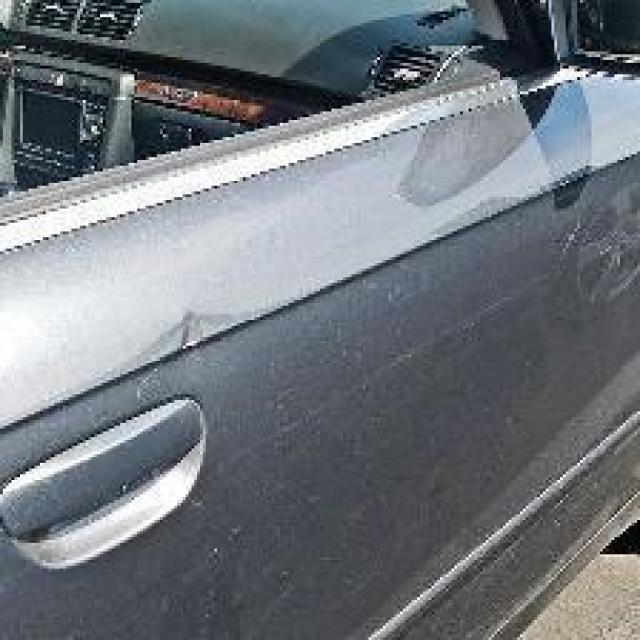damaged: (117, 306, 286, 394)
